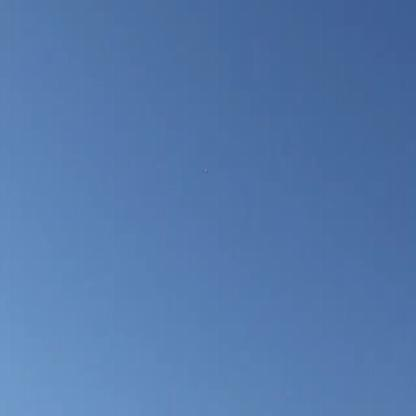CIV_Plane: (204, 166, 207, 176)
